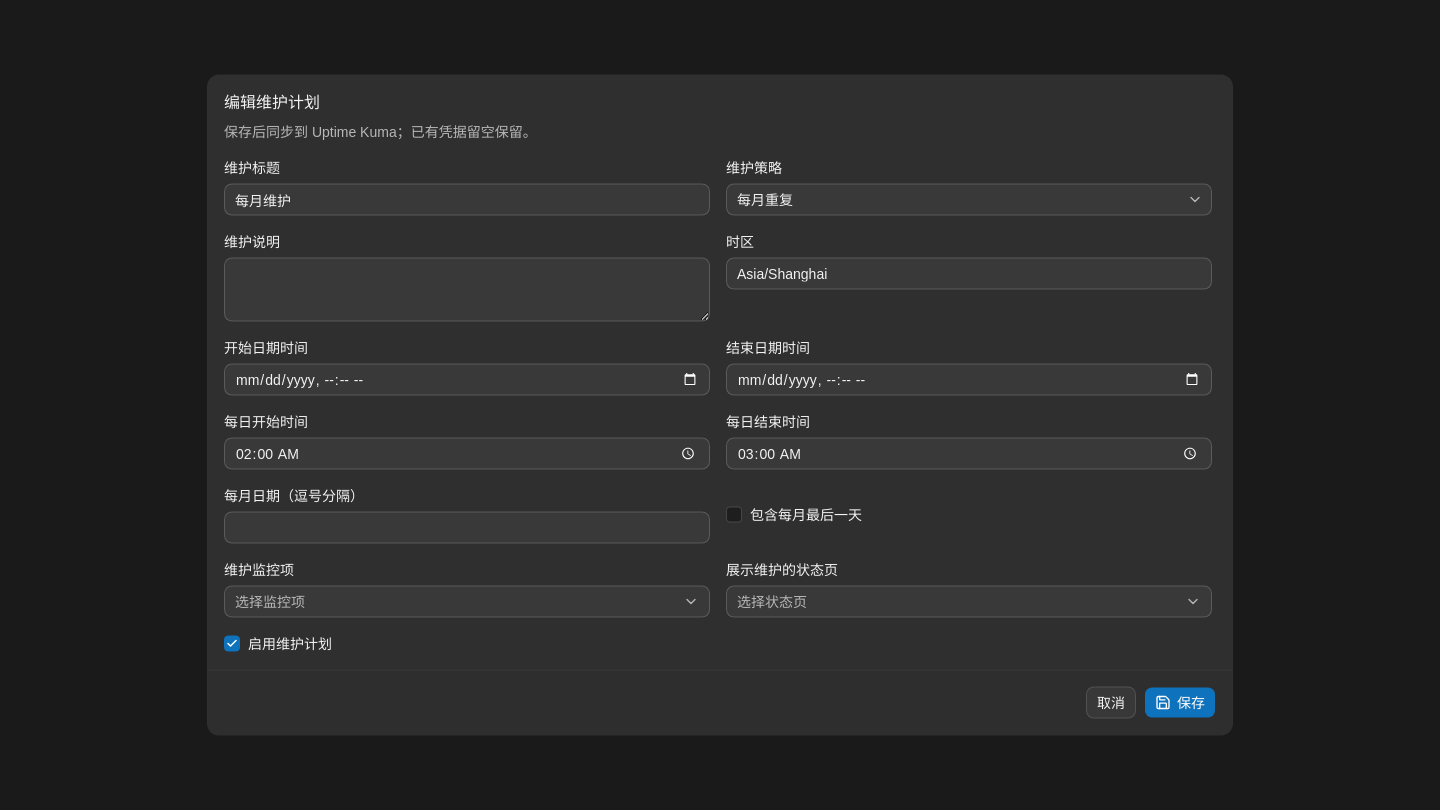
Scenario: 每月日期为 1, 时显示字段错误并阻止提交
Type "1," into the field named "每月日期（逗号分隔）". click: [467, 528]
box: top-left (224, 512), bottom-right (710, 544)
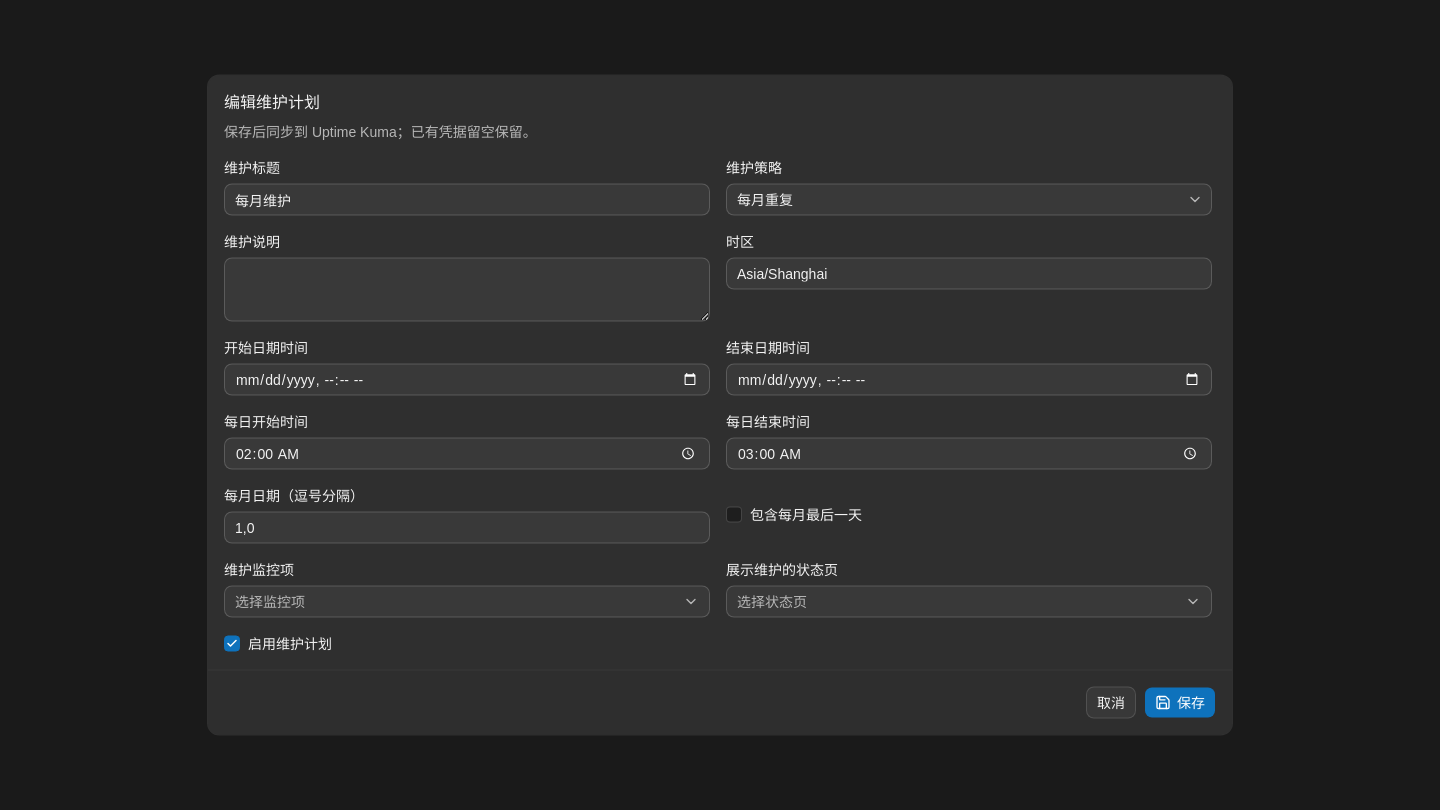
Click the button "保存". click: [1180, 702]
box: top-left (1144, 686), bottom-right (1216, 718)
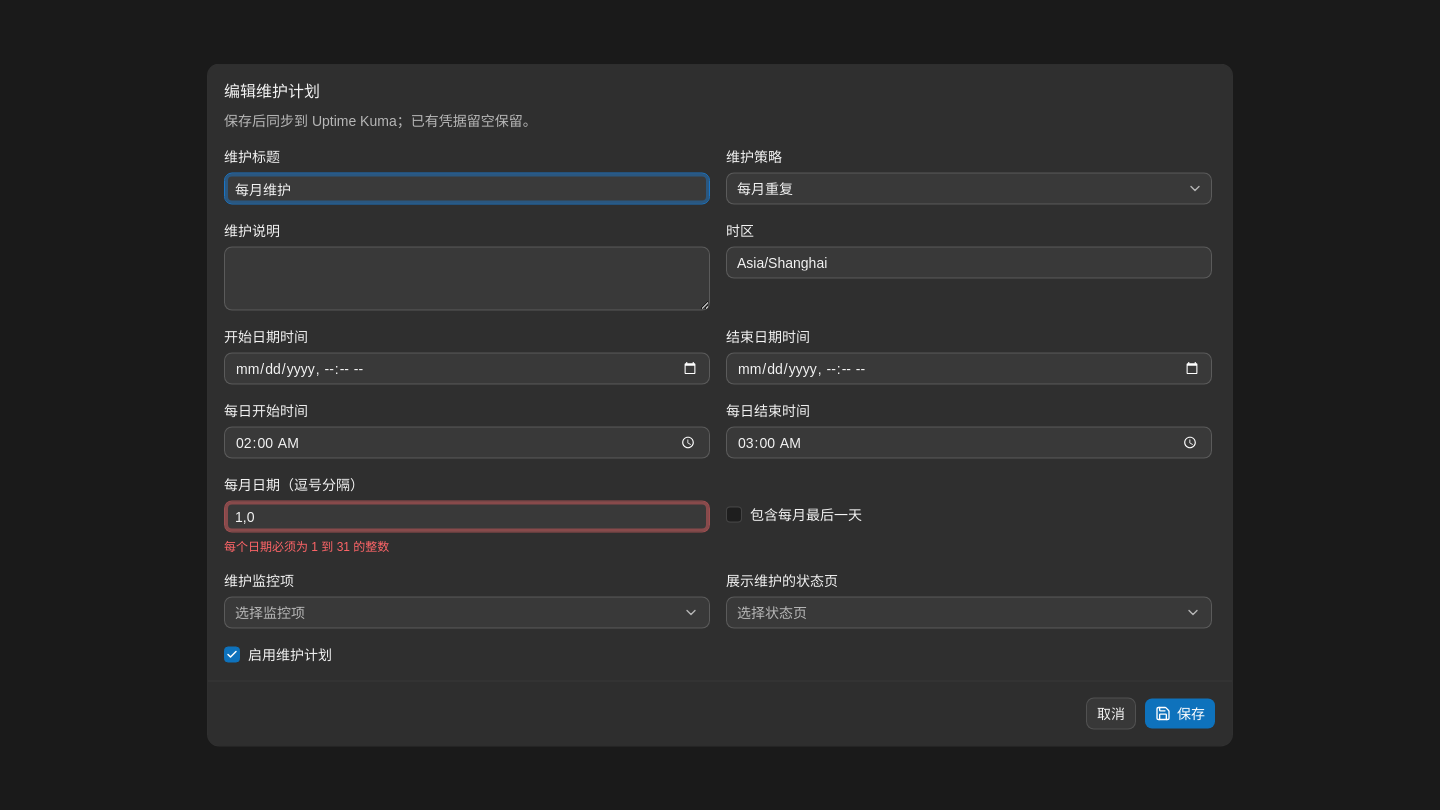
Expected: the message shows "日期", top-left (224, 540), bottom-right (389, 554)
